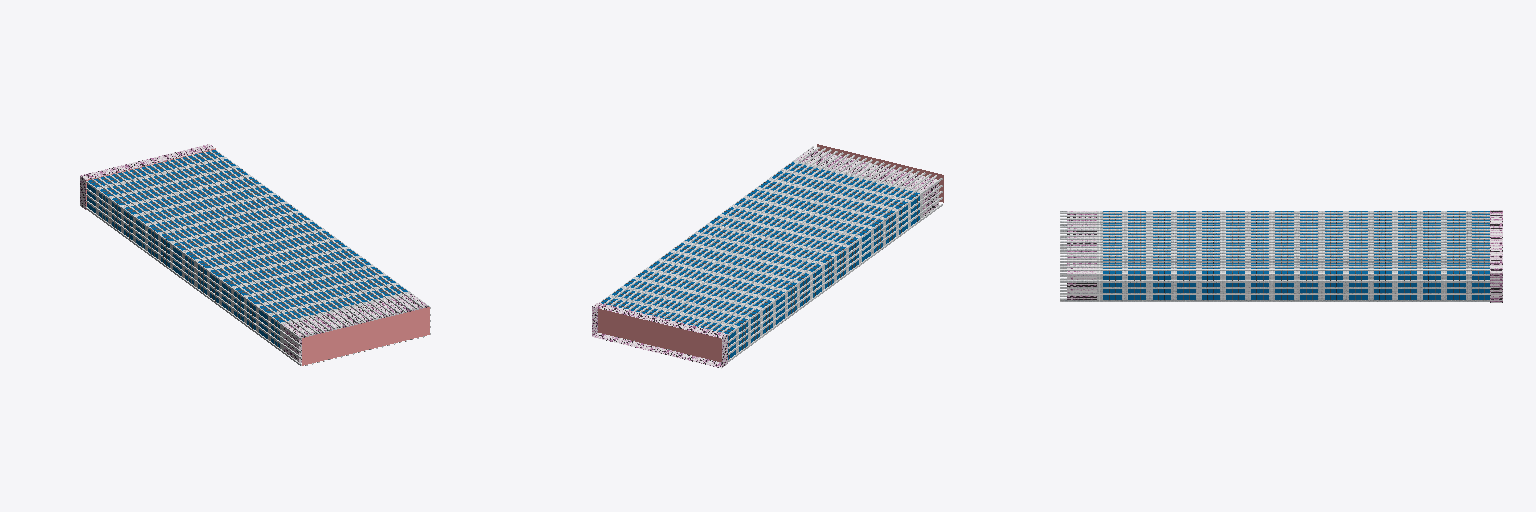
3 views of the same model, side by side, from view 1: azimuth 30°, elevation 25°; view 2: azimuth 150°, elevation 25°; view 3: azimuth 270°, elevation 25° (orthographic).
Visible parts, largest first — view 1: wall_02, glass_01, wall_01, slab_1_01, FRAME_01, tarrace_01, wall_1_01; view 2: wall_02, glass_01, wall_01, slab_01, FRAME_01, wall_1_01, tarrace_01, slab_1_01; view 3: wall_02, glass_01, wall_01, FRAME_01, tarrace_01, wall_1_01.
Boxes of the visible parts, x1=… form: wall_02: x1=86, y1=150, x2=429, y2=365; glass_01: x1=87, y1=150, x2=407, y2=347; wall_01: x1=96, y1=157, x2=410, y2=350; slab_1_01: x1=302, y1=307, x2=429, y2=365; FRAME_01: x1=91, y1=152, x2=404, y2=346; tarrace_01: x1=284, y1=294, x2=425, y2=361; wall_1_01: x1=80, y1=144, x2=214, y2=209; wall_02: x1=599, y1=146, x2=942, y2=361; glass_01: x1=601, y1=162, x2=919, y2=359; wall_01: x1=609, y1=160, x2=922, y2=353; slab_01: x1=598, y1=309, x2=721, y2=361; FRAME_01: x1=602, y1=164, x2=917, y2=358; wall_1_01: x1=592, y1=303, x2=727, y2=368; tarrace_01: x1=796, y1=149, x2=938, y2=216; slab_1_01: x1=817, y1=144, x2=943, y2=202; wall_02: x1=1060, y1=211, x2=1489, y2=301; glass_01: x1=1103, y1=211, x2=1489, y2=299; wall_01: x1=1097, y1=211, x2=1471, y2=299; FRAME_01: x1=1109, y1=211, x2=1484, y2=299; tarrace_01: x1=1067, y1=211, x2=1096, y2=299; wall_1_01: x1=1490, y1=210, x2=1502, y2=302.
Bounding box in the file's own units: 732 × 165 × 2175.
6 materials, 2 textured.